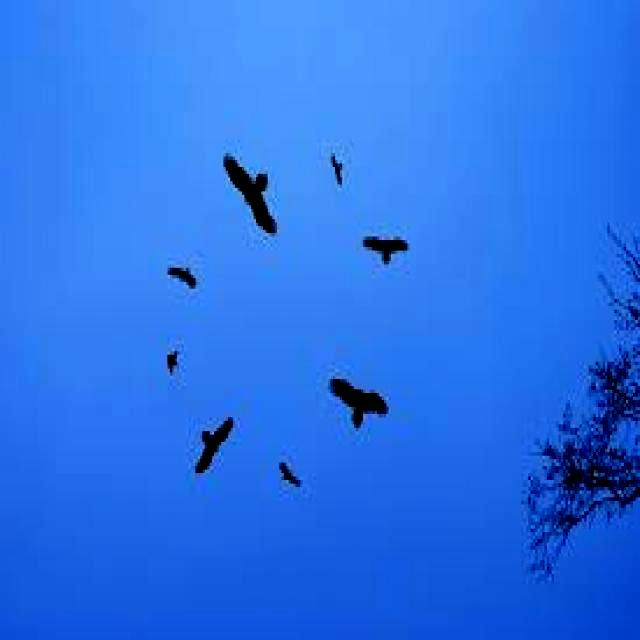bird: (217, 152, 286, 240), (324, 368, 396, 428), (360, 222, 416, 274), (191, 408, 234, 474), (154, 252, 205, 298), (152, 338, 198, 386), (269, 457, 315, 495), (320, 142, 350, 191)
